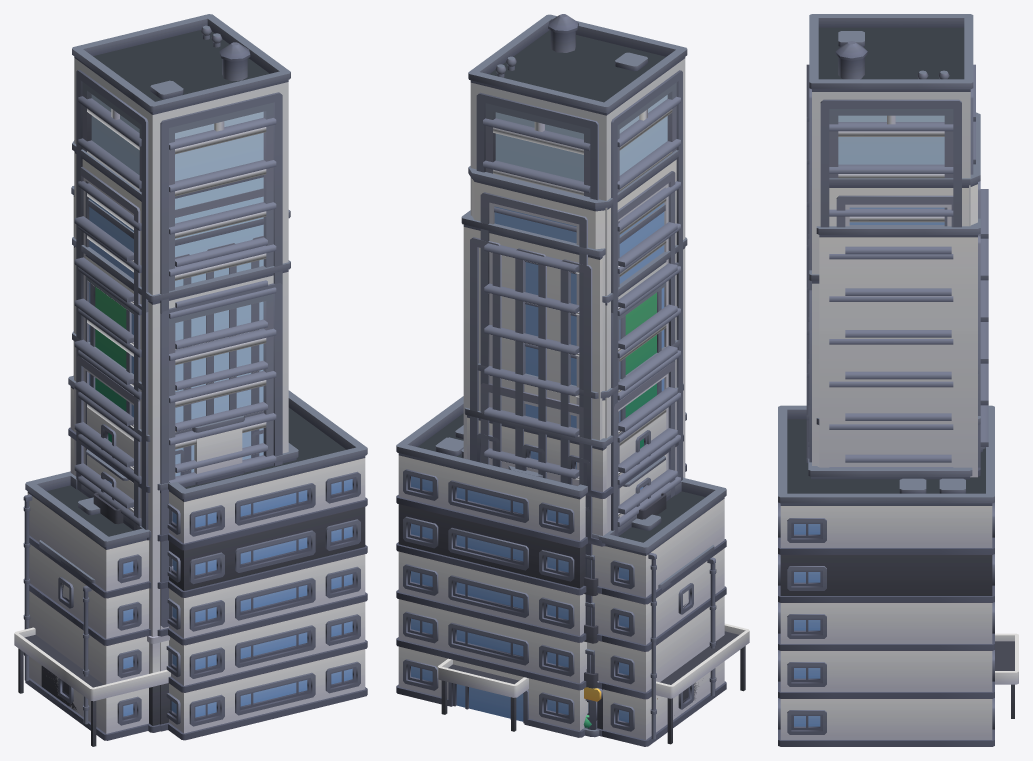
File: commercial.glb
3 views of the same model, side by side, from view 1: azimuth 30°, elevation 25°; view 2: azimuth 150°, elevation 25°; view 3: azimuth 270°, elevation 25° (orthographic).
Visible parts, largest first — view 1: building-n, building-skyscraper-d, building-j, building-skyscraper-c, building-skyscraper-b, building-skyscraper-e, building-skyscraper-a, building-k, building-m, building-l; view 2: building-n, building-skyscraper-d, building-skyscraper-b, building-j, building-skyscraper-e, building-m, building-skyscraper-a, building-skyscraper-c, building-k, building-i; view 3: building-n, building-skyscraper-d, building-skyscraper-e, building-skyscraper-b, building-skyscraper-c, building-l, building-skyscraper-a.
Boxes of the visible parts, x1,y1,x2,y2 form: building-n: [14, 390, 367, 746]; building-skyscraper-d: [72, 14, 290, 731]; building-j: [23, 471, 149, 740]; building-skyscraper-c: [72, 237, 290, 732]; building-skyscraper-b: [72, 140, 267, 518]; building-skyscraper-e: [71, 186, 290, 480]; building-skyscraper-a: [72, 331, 267, 530]; building-k: [39, 540, 95, 728]; building-m: [68, 375, 263, 629]; building-l: [93, 443, 298, 731]; building-n: [396, 396, 749, 744]; building-skyscraper-d: [468, 14, 687, 530]; building-skyscraper-b: [468, 150, 678, 730]; building-j: [583, 478, 726, 746]; building-skyscraper-e: [461, 204, 665, 729]; building-m: [464, 383, 683, 736]; building-skyscraper-a: [477, 339, 680, 729]; building-skyscraper-c: [525, 237, 687, 532]; building-k: [657, 545, 716, 735]; building-i: [584, 477, 684, 729]; building-n: [778, 405, 1018, 746]; building-skyscraper-d: [806, 14, 975, 467]; building-skyscraper-e: [816, 218, 980, 477]; building-skyscraper-b: [808, 112, 988, 462]; building-skyscraper-c: [806, 270, 953, 468]; building-l: [808, 447, 985, 479]; building-skyscraper-a: [808, 368, 988, 457].
Size of the model in its own units: 2.32 by 5.47 by 1.82.
1 material, 1 textured.
